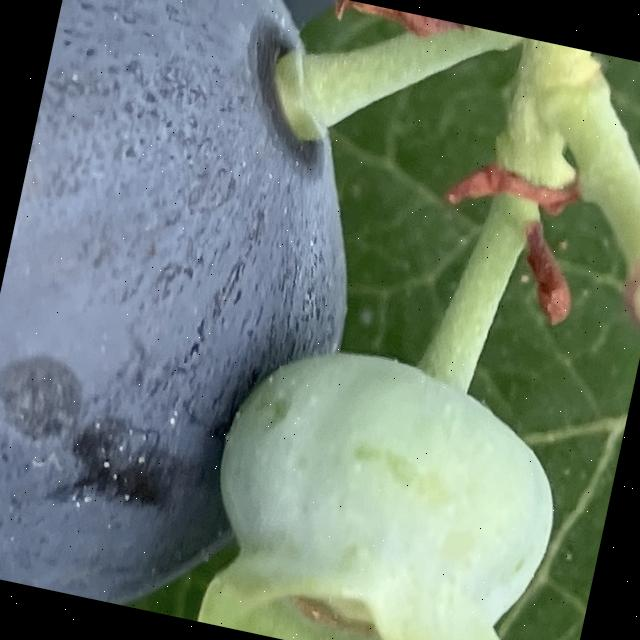Blueberries: (0, 0, 412, 638)
